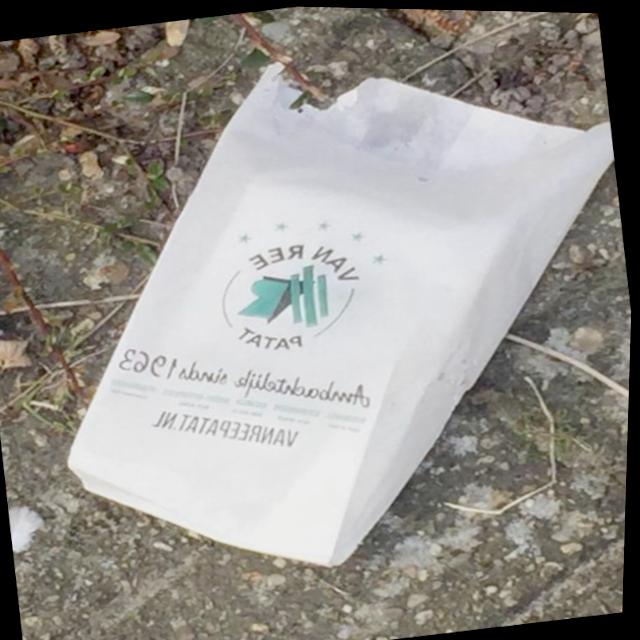Paper: (13, 6, 640, 608)
